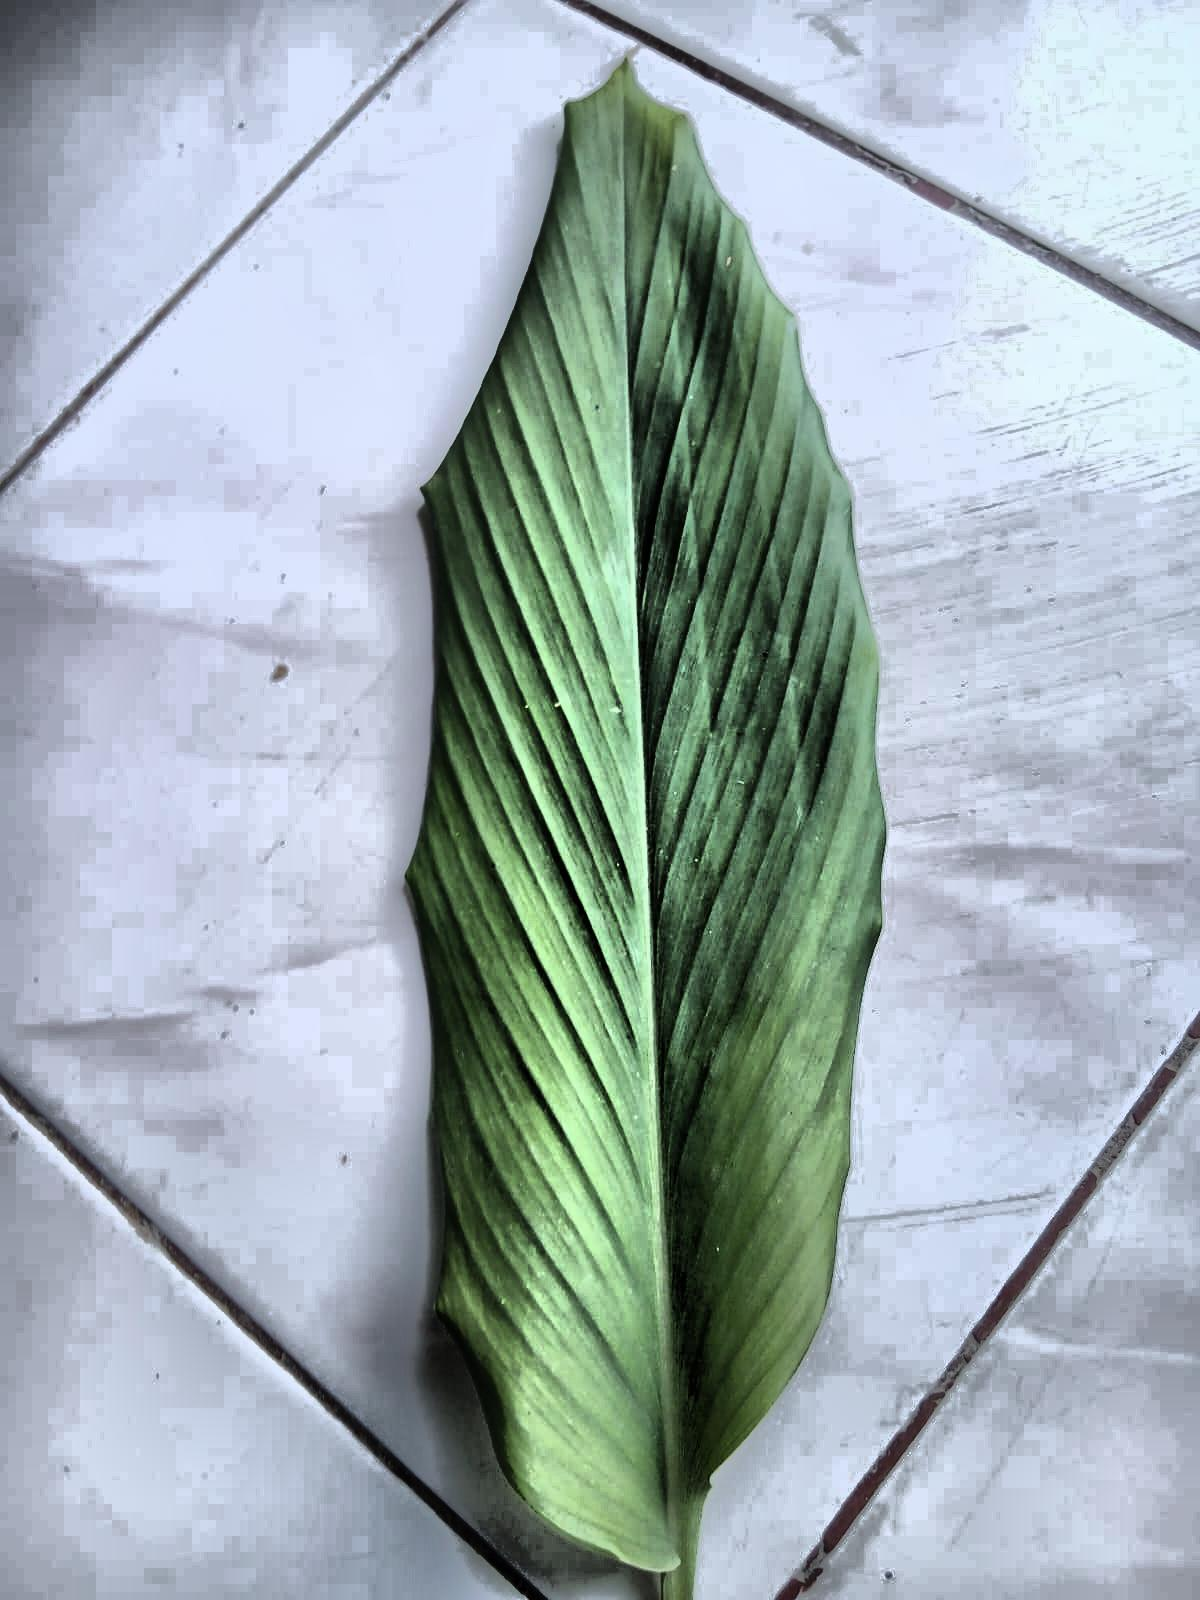daun kunyit: (408, 62, 884, 1599)
